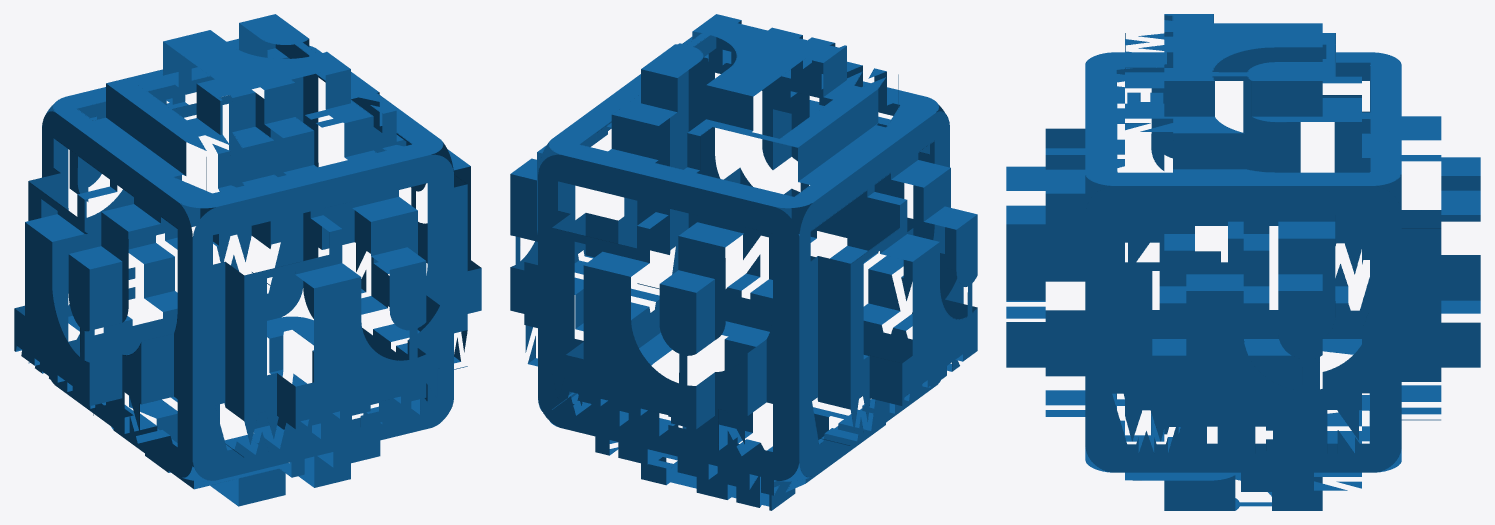
3 renders of one model, left to right at view 1: azimuth 30°, elevation 25°; view 2: azimuth 150°, elevation 25°; view 3: azimuth 270°, elevation 25°, orthographic. The views are drawn at different scales.
Parts seen in each view (by area): view 1: Cube.001; view 2: Cube.001; view 3: Cube.001.
Part boxes in pixels (x1,y1,x2,y2): Cube.001: (14, 14, 481, 506); Cube.001: (510, 14, 977, 510); Cube.001: (1006, 14, 1480, 510).
Size of the model in its own units: 300 by 300 by 300.
Materials: 1 (1 with a texture image).
